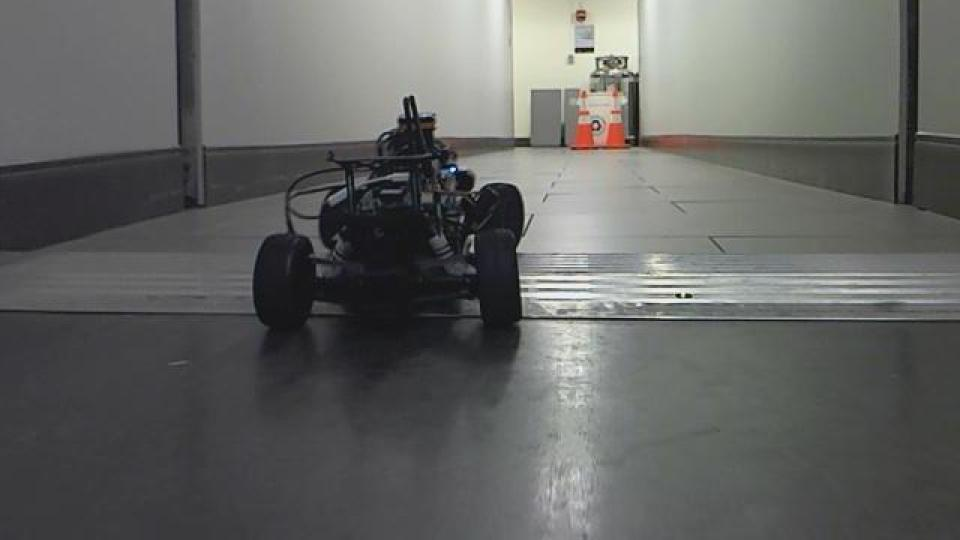car: (248, 93, 530, 336)
